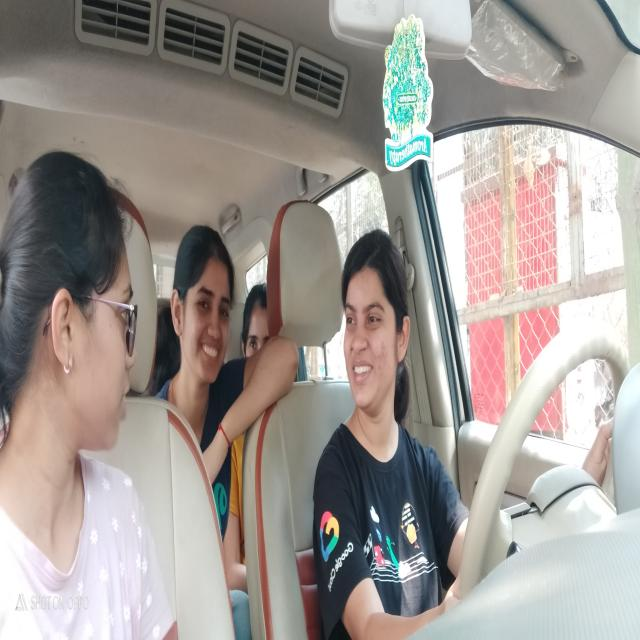LeftRight: (336, 221, 416, 416), (348, 360, 376, 384)
person: (9, 147, 140, 449), (168, 220, 234, 390), (239, 279, 277, 366)
